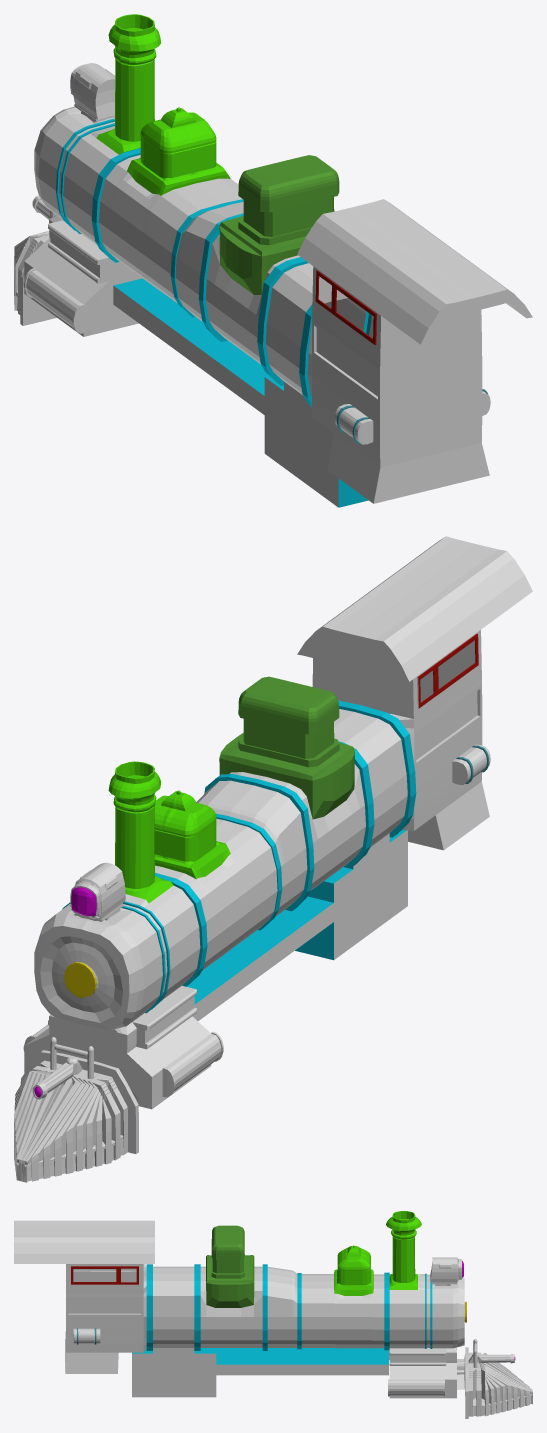
File: train.fbx
3 views of the same model, one above another, from view 1: azimuth 30°, elevation 25°; view 2: azimuth 150°, elevation 25°; view 3: azimuth 270°, elevation 25° (orthographic). The views are drawn at different scales.
Parts seen in each view (by area): view 1: Engine; view 2: Engine; view 3: Engine.
Part boxes in pixels (left/top/right/bottom): Engine: left=14, top=14, right=532, bottom=507; Engine: left=14, top=536, right=532, bottom=1182; Engine: left=14, top=1211, right=532, bottom=1418.
Bounding box in the file's own units: 110 × 230 × 578.
